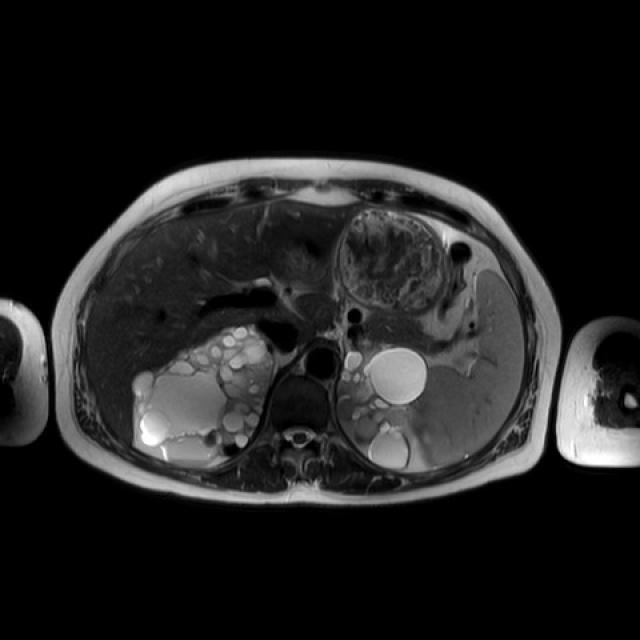sag: (134, 327, 274, 466)
sol: (338, 348, 428, 468)
